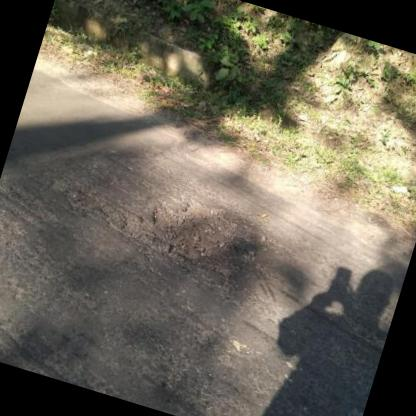pothole: (109, 177, 251, 282)
